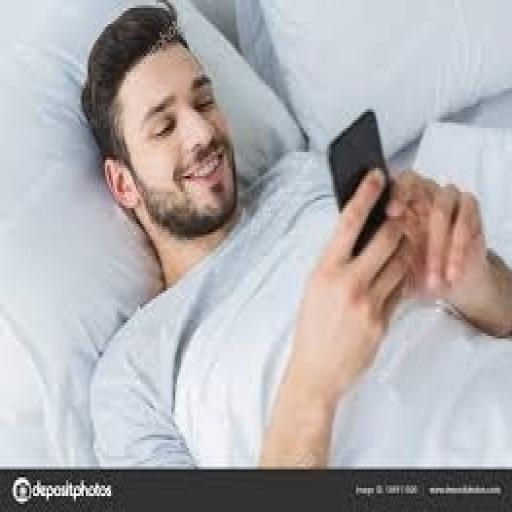texting: (76, 0, 510, 467)
